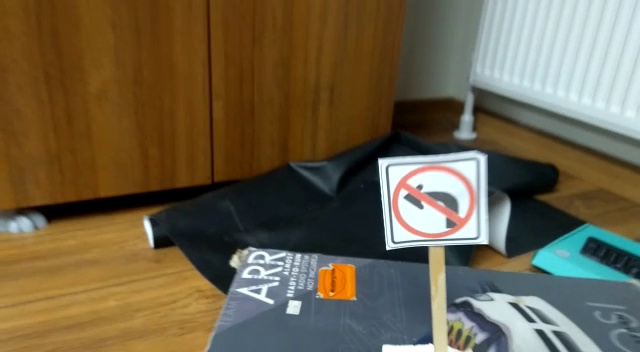sola_donulmez: (390, 159, 477, 244)
